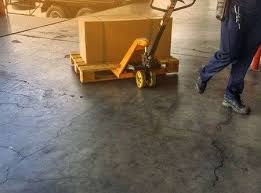Pallet Jack: (67, 1, 196, 90)
